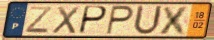P: (104, 4, 135, 36), (77, 5, 109, 36)
U: (131, 4, 164, 37)
X: (157, 5, 192, 36), (51, 5, 81, 35)
Z: (24, 5, 54, 34)
